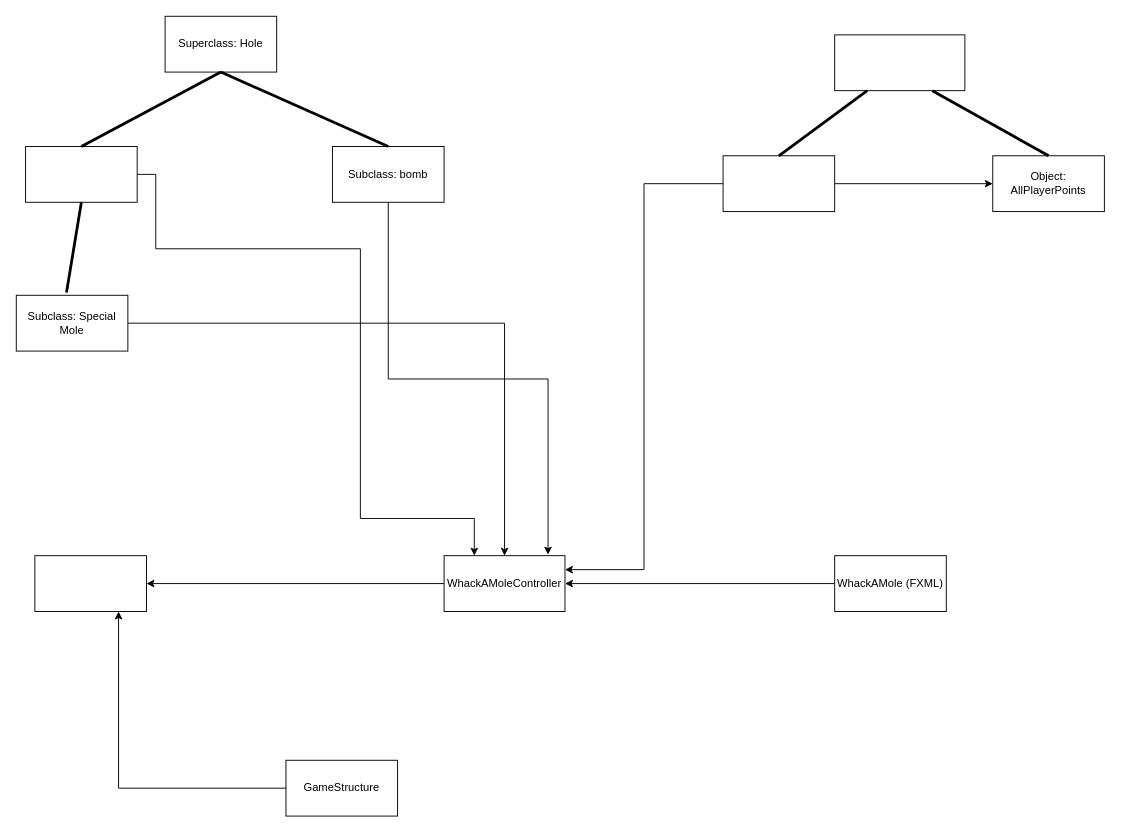
Some shapes in this 1121 by 832 pixel diagram are drawn without their labels. The shapes that lost their labels are listed below. From the top down, each one's centre as x and y in pixels, then its label:
(899,62): Interface: PointSystem
(81,174): Subclass: mole
(778,183): Object: PlayerPoints
(90,583): WhackAMole.java (main)
